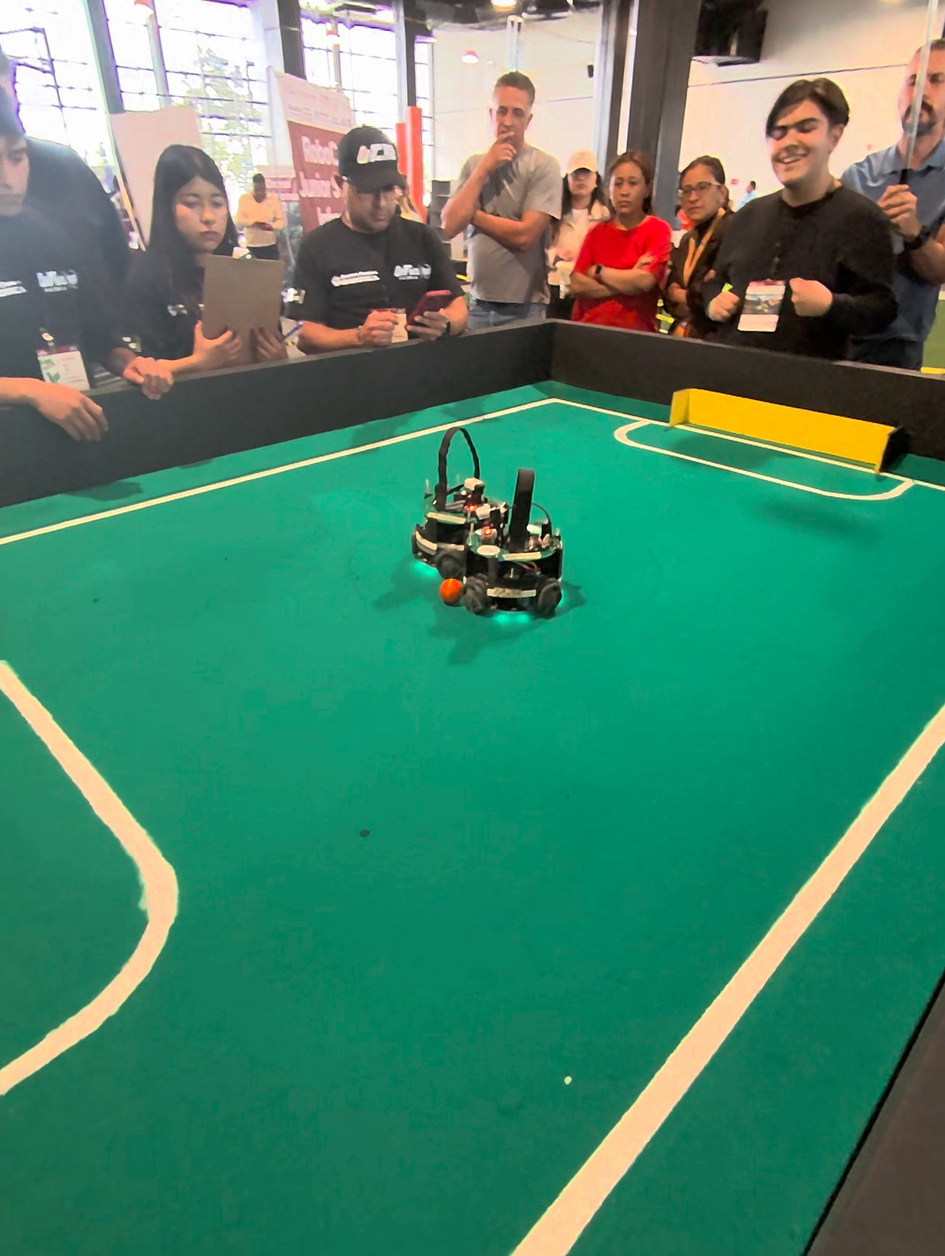Robot: (413, 423, 535, 622), (446, 470, 568, 638), (410, 414, 499, 567)
pelota: (440, 575, 465, 600)
